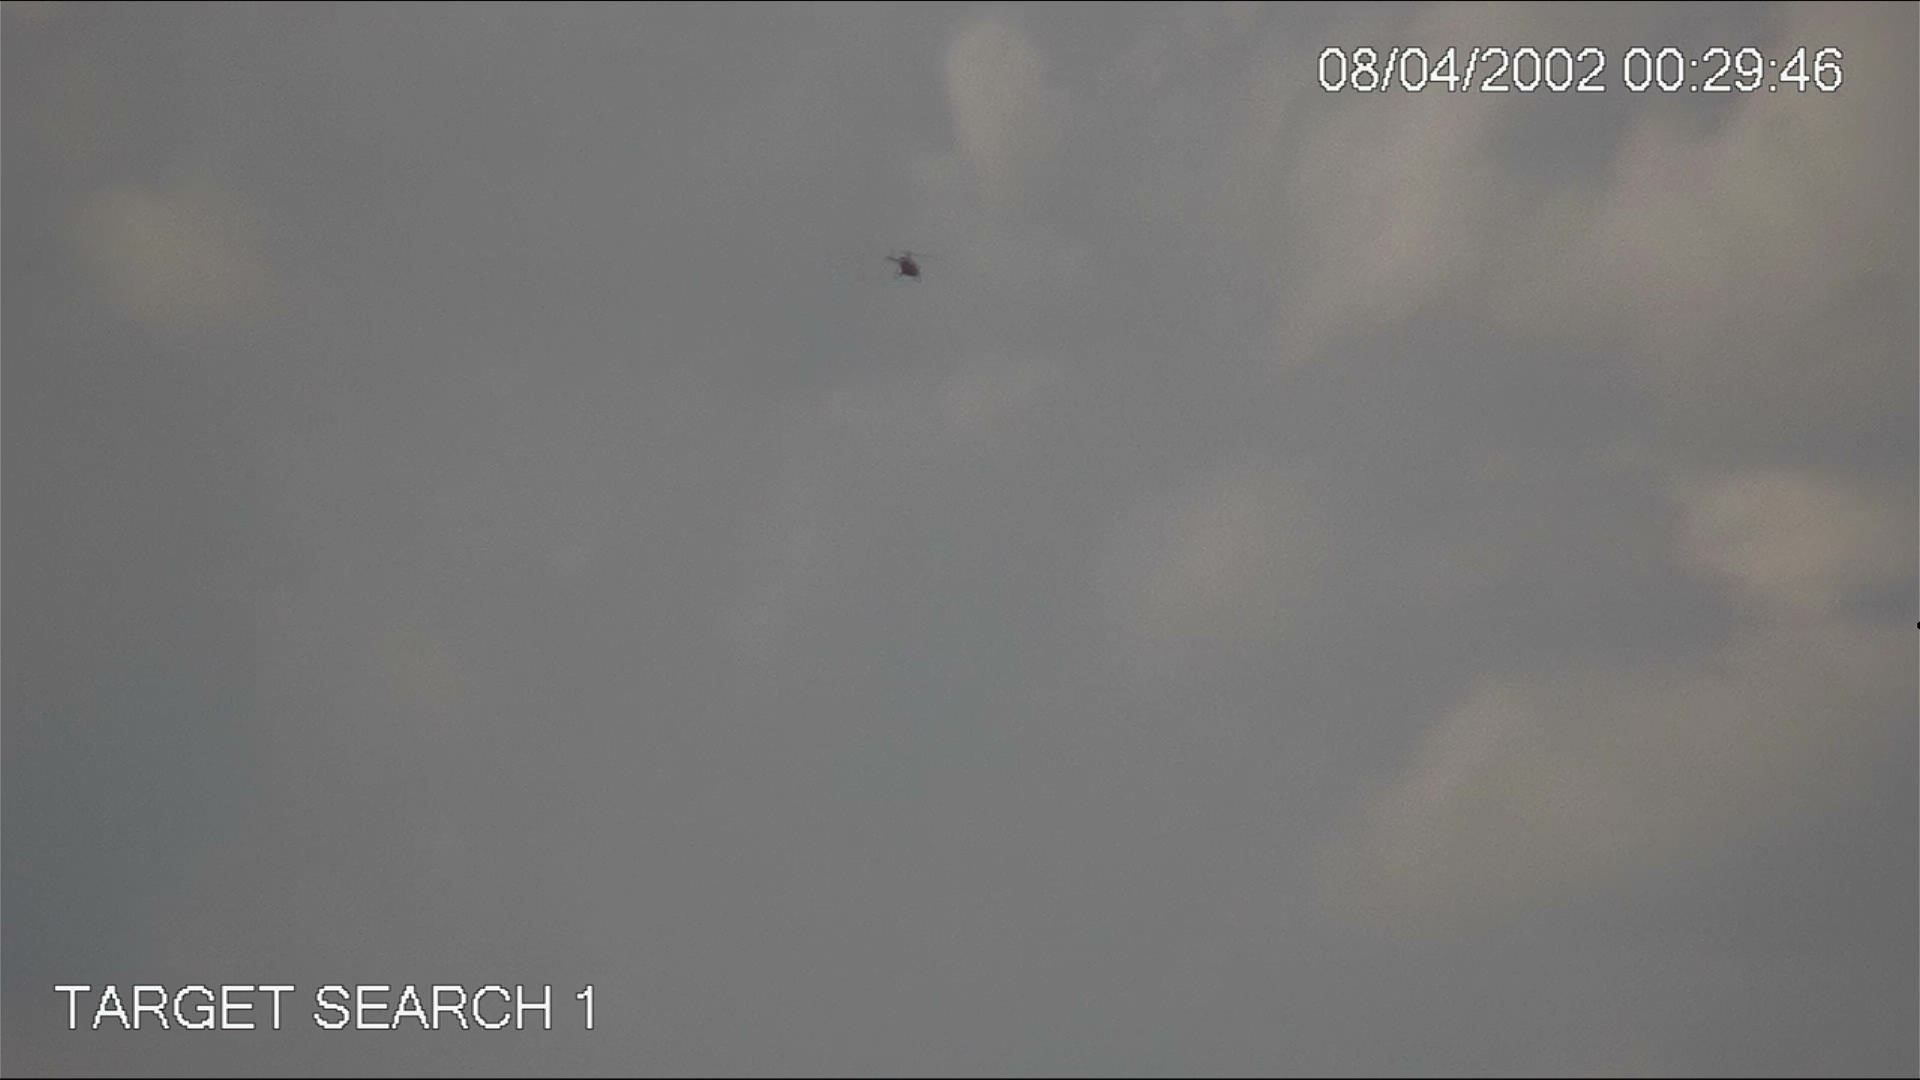SU_30: (881, 243, 927, 285)
